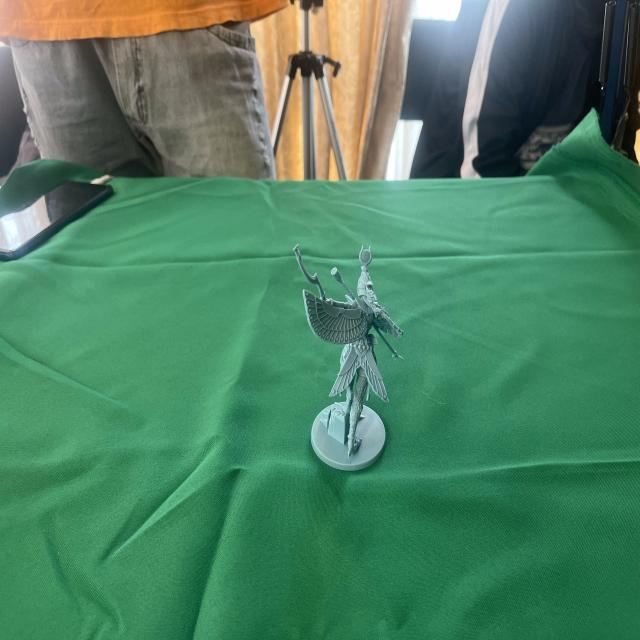isis: (280, 225, 412, 499)
